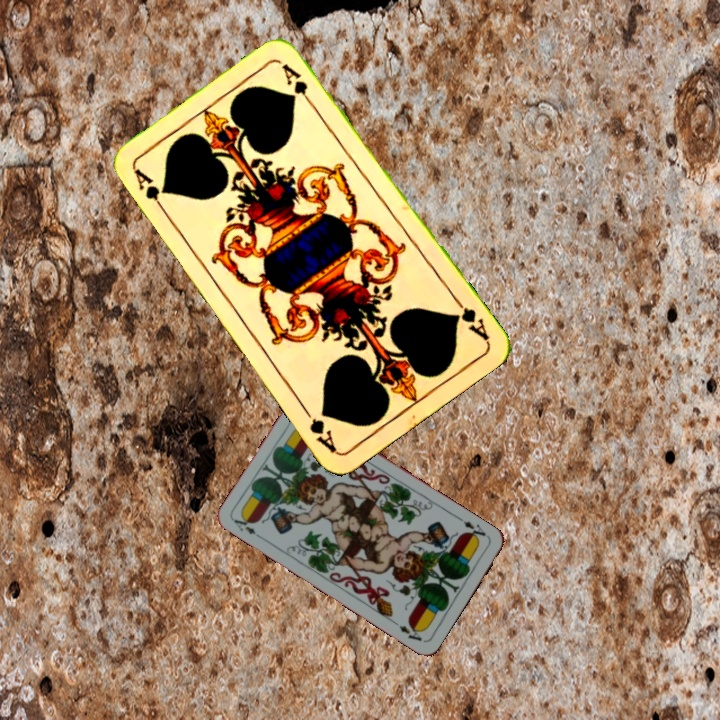EA: (230, 512, 266, 542), (459, 517, 491, 544)
GA: (449, 292, 492, 344), (129, 164, 169, 217)
